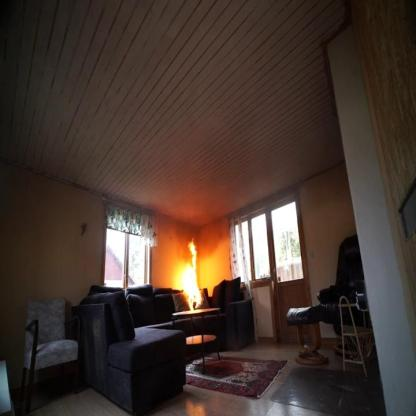fire: (180, 237, 202, 312)
